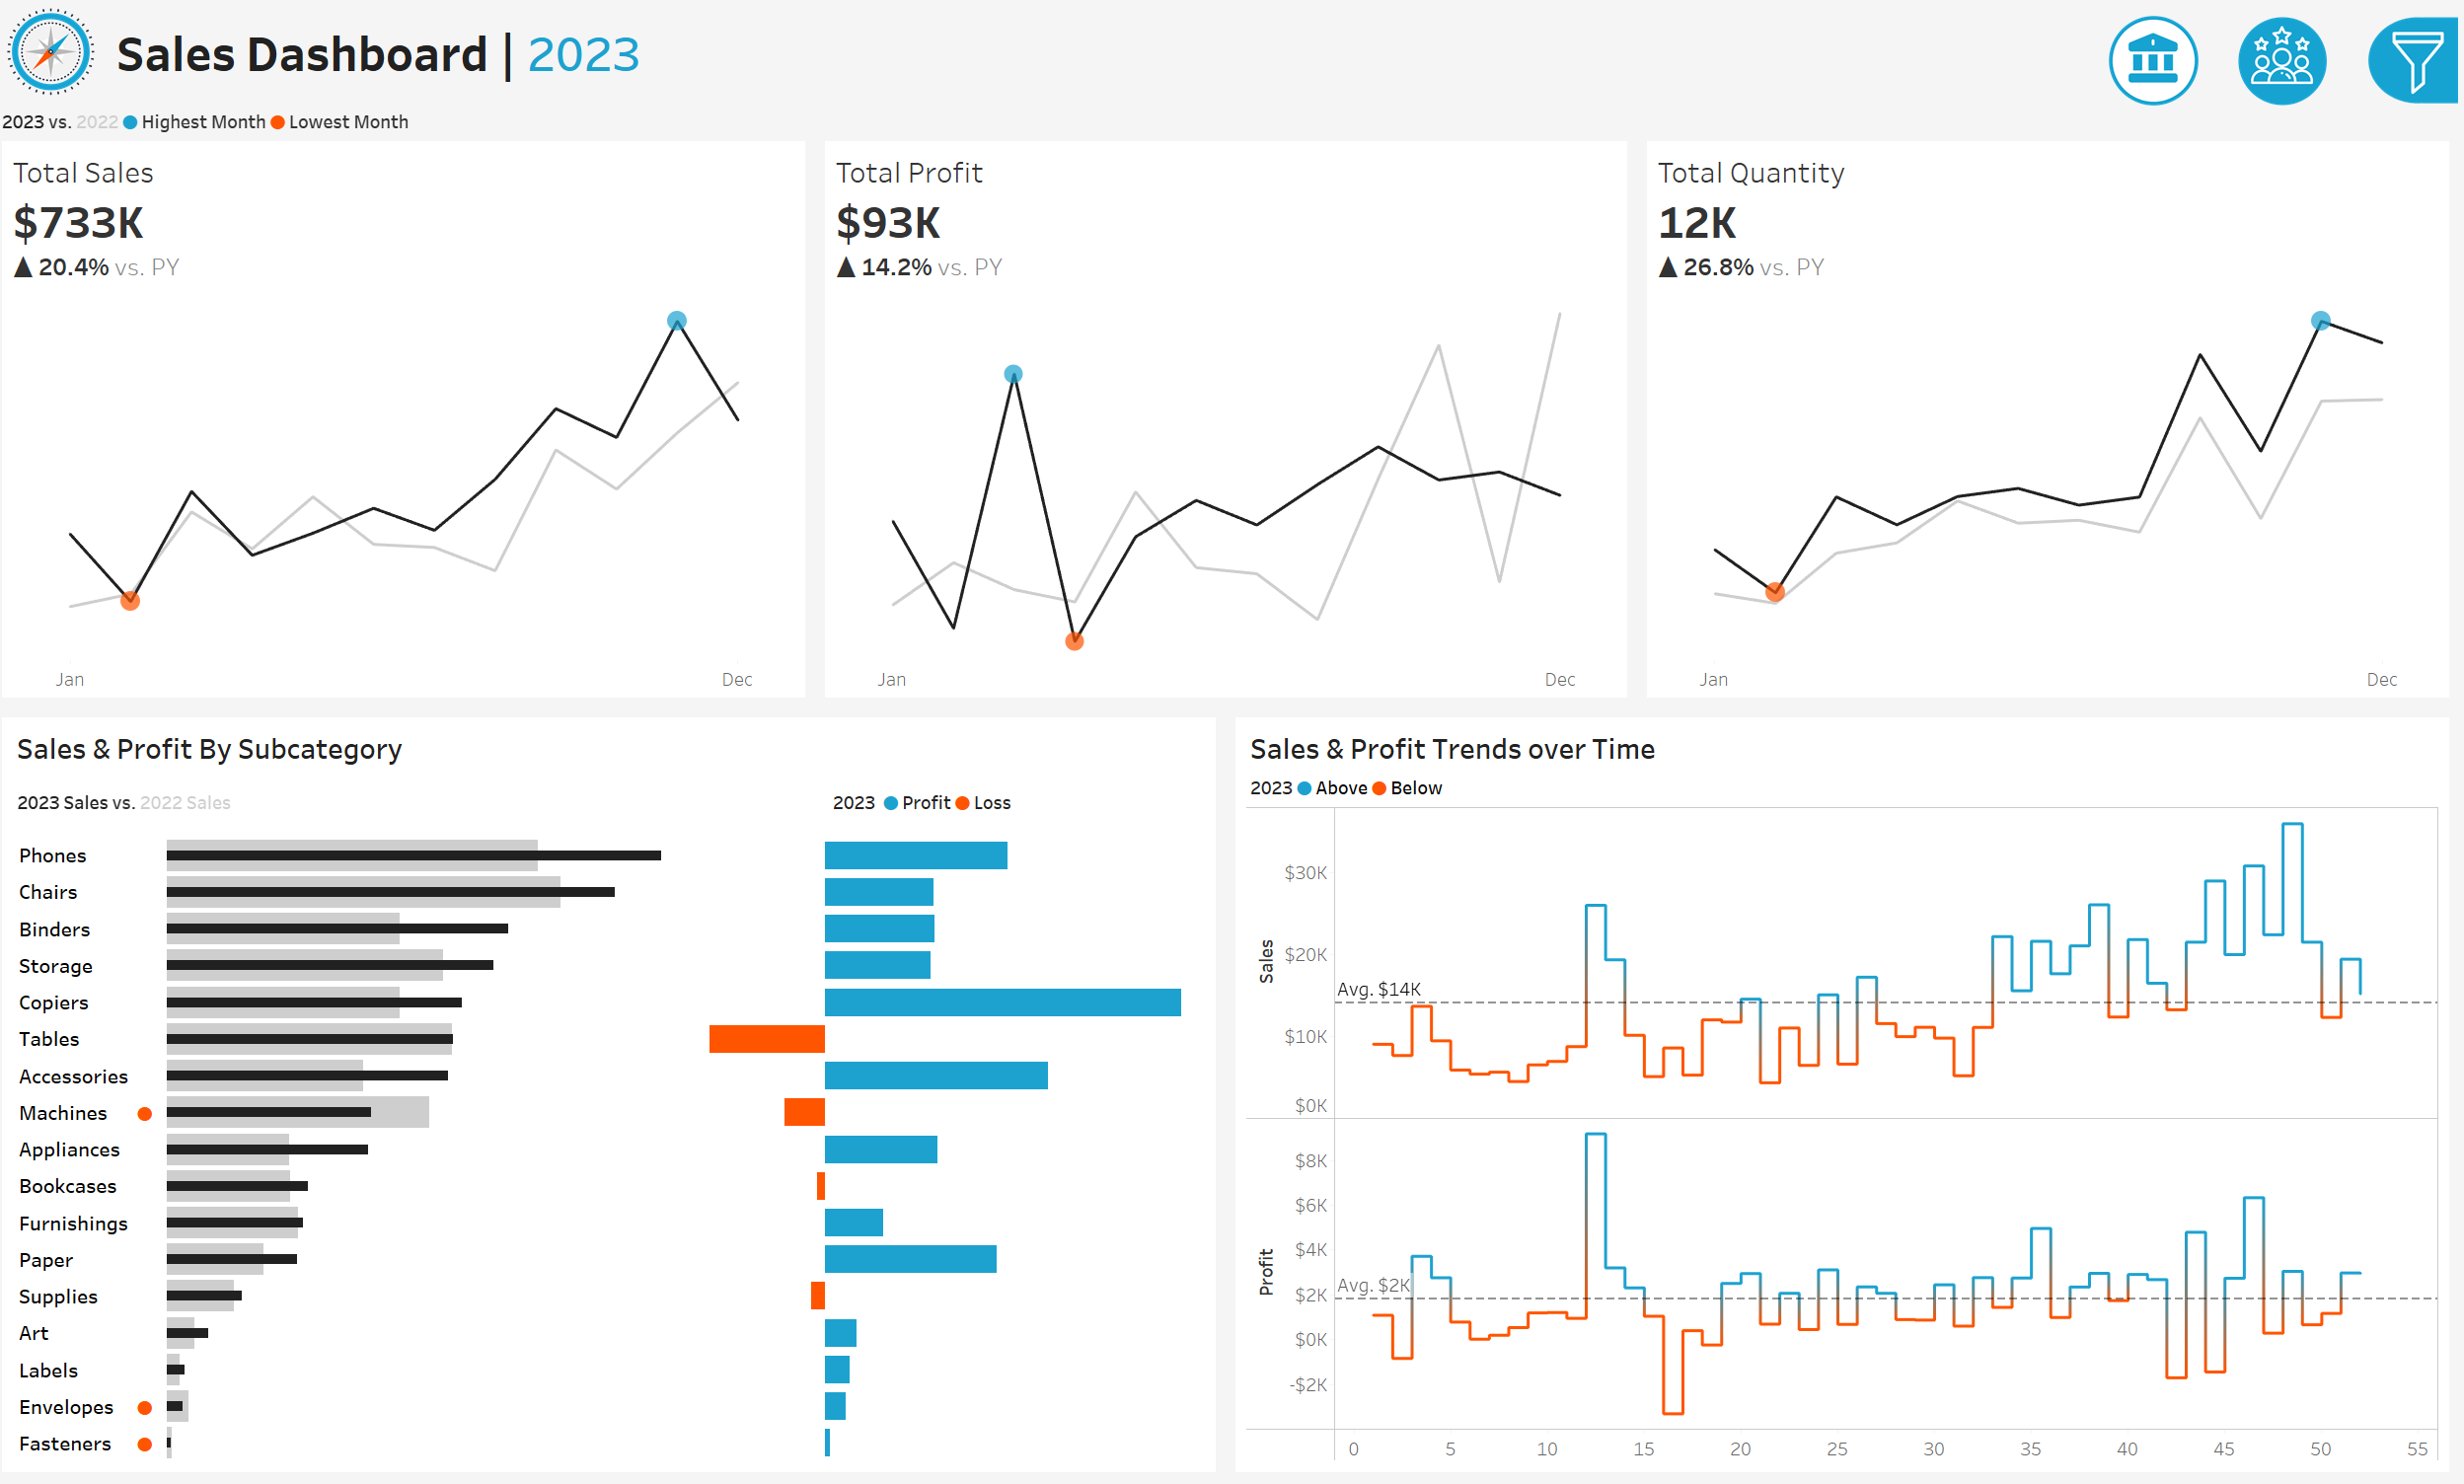

What the dashboard file says about the page in this screenshot:
{"tool":"tableau","page":{"name":"Sales Dashboard","canvas":[2500,1500],"ordinal":1},"visuals":[{"type":"image","param":"C:/Users/Tafhim/Downloads/projects/projects/sales-dashboard-project/images/Icon ","box":[0,0,118,101]},{"type":"text","box":[118,0,2382,101]},{"type":"dashboard-object","box":[2125,9,131,101]},{"type":"dashboard-object","box":[2256,9,131,101]},{"type":"blank","box":[2145,10,344,125]},{"type":"worksheet","title":"Legends KPI","mark":"Automatic","box":[0,101,2500,40]},{"type":"text","box":[2145,135,344,83]},{"type":"worksheet","title":"KPI Sales","mark":"Automatic","rows":["Calculation_1461418124091695108"],"cols":["Order Date"],"box":[0,141,834,574]},{"type":"worksheet","title":"KPI Profit","mark":"Automatic","rows":["Calculation_1461418124127211533"],"cols":["Order Date"],"box":[834,141,833,574]},{"type":"worksheet","title":"KPI Quantity","mark":"Automatic","rows":["Calculation_1340665359188930564"],"cols":["Order Date"],"box":[1667,141,833,574]},{"type":"parameter","param":"[Parameters].[Parameter 1]","box":[2145,218,344,69]},{"type":"text","box":[2145,287,344,39]},{"type":"filter","title":"KPI Sales","param":"[federated.0ld1ve80ldgcty145q8j11uf5hs8].[none:Category:nk]","box":[2145,326,344,70]},{"type":"filter","title":"KPI Sales","param":"[federated.0ld1ve80ldgcty145q8j11uf5hs8].[none:Sub-Category:nk]","box":[2145,396,344,70]},{"type":"blank","box":[2145,466,344,50]},{"type":"text","box":[2145,516,344,39]},{"type":"filter","title":"KPI Sales","param":"[federated.0ld1ve80ldgcty145q8j11uf5hs8].[none:Region:nk]","box":[2145,555,344,70]},{"type":"filter","title":"KPI Sales","param":"[federated.0ld1ve80ldgcty145q8j11uf5hs8].[none:State:nk]","box":[2145,625,344,70]},{"type":"filter","title":"KPI Sales","param":"[federated.0ld1ve80ldgcty145q8j11uf5hs8].[none:City:nk]","box":[2145,694.9,344,70]},{"type":"text","box":[17,732,1216,47]},{"type":"text","box":[1267,732,1216,47]},{"type":"worksheet","title":"Legends Subcategory","mark":"Automatic","box":[17,779,827,63]},{"type":"text","box":[844,779,389,63]},{"type":"text","box":[1267,779,1216,33]},{"type":"worksheet","title":"Weekly Trends","mark":"Automatic","rows":["Calculation_1461418124087144448","Calculation_1461418124122345481"],"cols":["Order Date"],"box":[1267,812,1216,671]},{"type":"worksheet","title":"Subcategory Comparison","mark":"Bar","rows":["Sub-Category","Calculation_523543502165868550"],"cols":["CY Sales (copy)_1461418124087631873","Calculation_1461418124087144448","Calculation_1461418124122345481"],"box":[17,842,1216,640.8]}]}

Visuals, with their boxes in screenshot pixels (x1, y1, x2, y2), scaled from the page's 2500x1500 canvas onto the 2464x1484 screenshot:
image: x1=0, y1=0, x2=116, y2=100
text: x1=116, y1=0, x2=2463, y2=100
dashboard-object: x1=2094, y1=9, x2=2223, y2=109
dashboard-object: x1=2223, y1=9, x2=2352, y2=109
blank: x1=2114, y1=10, x2=2453, y2=133
"Legends KPI" worksheet: x1=0, y1=100, x2=2463, y2=139
text: x1=2114, y1=133, x2=2453, y2=216
"KPI Sales" worksheet: x1=0, y1=139, x2=822, y2=707
"KPI Profit" worksheet: x1=822, y1=139, x2=1643, y2=707
"KPI Quantity" worksheet: x1=1643, y1=139, x2=2463, y2=707
parameter: x1=2114, y1=216, x2=2453, y2=284
text: x1=2114, y1=284, x2=2453, y2=323
"KPI Sales" filter: x1=2114, y1=323, x2=2453, y2=392
"KPI Sales" filter: x1=2114, y1=392, x2=2453, y2=461
blank: x1=2114, y1=461, x2=2453, y2=510
text: x1=2114, y1=510, x2=2453, y2=549
"KPI Sales" filter: x1=2114, y1=549, x2=2453, y2=619
"KPI Sales" filter: x1=2114, y1=619, x2=2453, y2=688
"KPI Sales" filter: x1=2114, y1=688, x2=2453, y2=757
text: x1=17, y1=724, x2=1216, y2=771
text: x1=1248, y1=724, x2=2447, y2=771
"Legends Subcategory" worksheet: x1=17, y1=771, x2=832, y2=833
text: x1=832, y1=771, x2=1216, y2=833
text: x1=1248, y1=771, x2=2447, y2=803
"Weekly Trends" worksheet: x1=1248, y1=803, x2=2447, y2=1467
"Subcategory Comparison" worksheet (Bar marks): x1=17, y1=833, x2=1216, y2=1467
